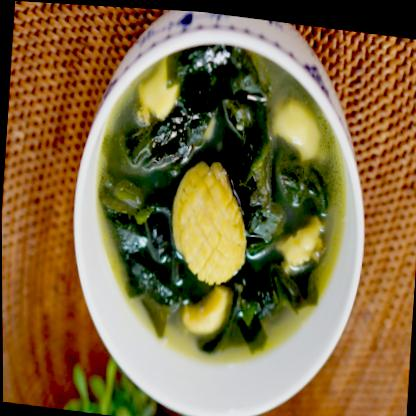seaweed: (81, 35, 357, 393)
